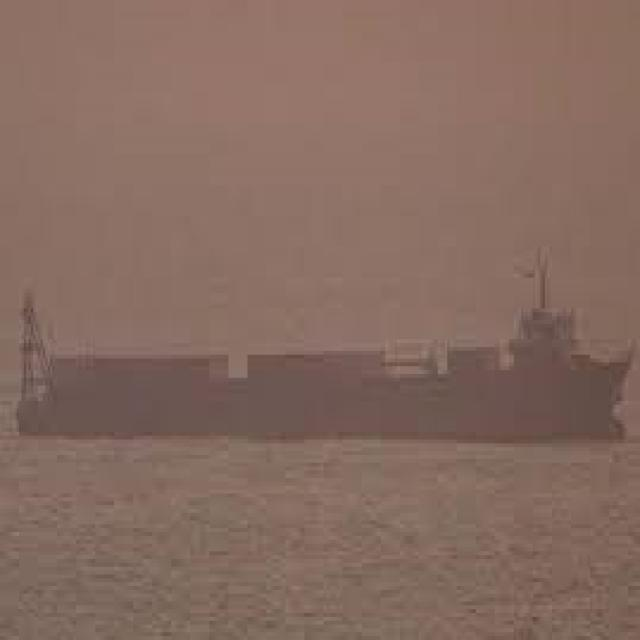cargoship: (8, 254, 632, 444)
